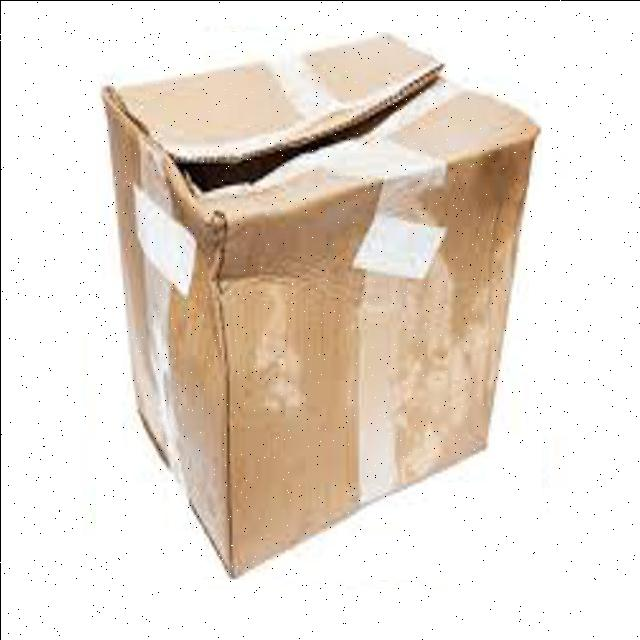defect: (95, 31, 541, 579)
